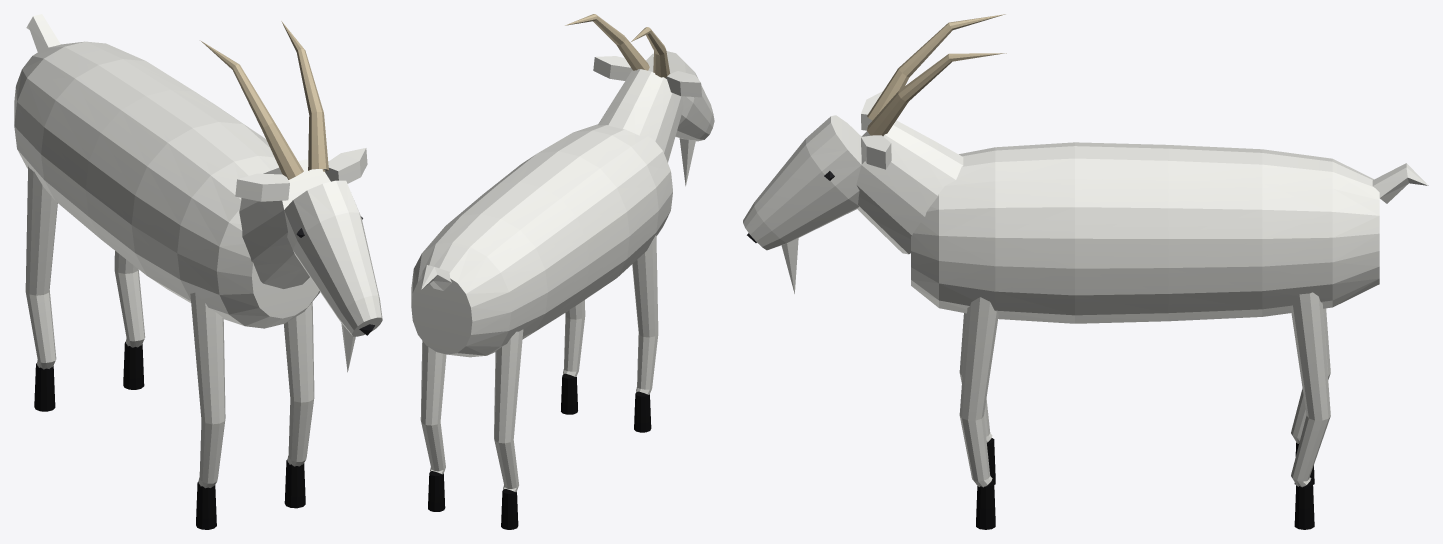
The model's file is Goat.fbx.
3 views of the same model, side by side, from view 1: azimuth 30°, elevation 25°; view 2: azimuth 150°, elevation 25°; view 3: azimuth 270°, elevation 25° (orthographic). The views are drawn at different scales.
Parts seen in each view (by area): view 1: Goat_LOD0; view 2: Goat_LOD0; view 3: Goat_LOD0.
Part boxes in pixels (left/top/right/bottom): Goat_LOD0: left=14, top=14, right=382, bottom=529; Goat_LOD0: left=411, top=14, right=714, bottom=529; Goat_LOD0: left=743, top=14, right=1428, bottom=529.
Size of what is drawn, in the model's own units: 0.36 by 1.11 by 1.46.
1 material, 1 textured.
